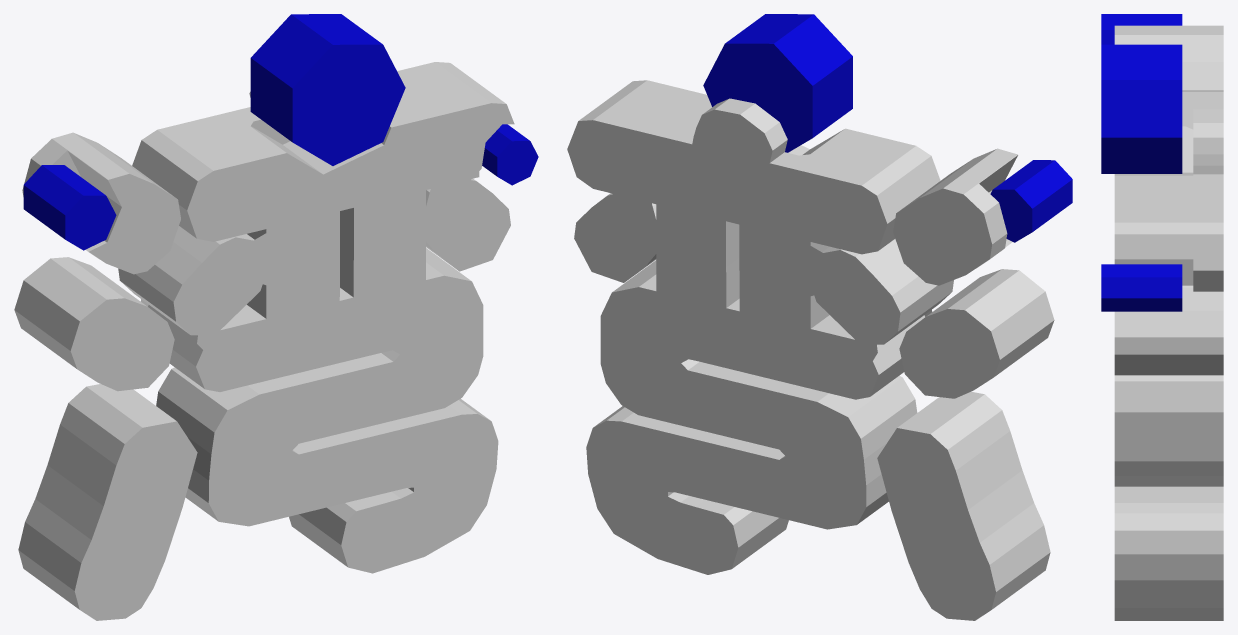
The model's file is Ch_Lite_China_湾_01.fbx.
The picture shows the model from 3 angles, left to right: view 1: azimuth 30°, elevation 25°; view 2: azimuth 150°, elevation 25°; view 3: azimuth 270°, elevation 25°; orthographic projection. The views are drawn at different scales.
Visible parts, largest first — view 1: sphere1; view 2: sphere1; view 3: sphere1.
Part boxes in pixels (box(x1,y1,x2,y2)): sphere1: box(14, 14, 538, 620); sphere1: box(567, 14, 1072, 620); sphere1: box(1101, 14, 1223, 620).
Size of the model in its own units: 0.9702 by 1.07 by 0.2242.
